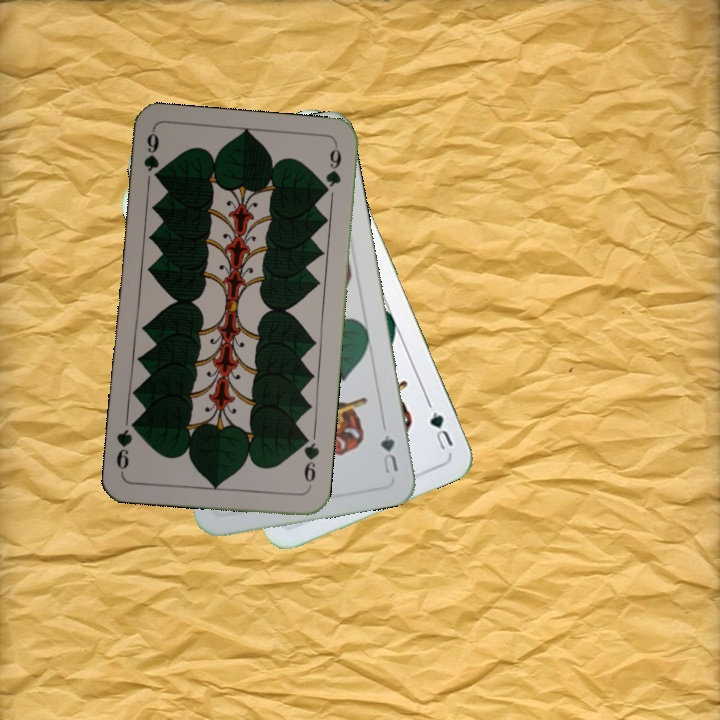G9: (299, 431, 322, 491), (139, 128, 162, 183)
GU: (425, 407, 456, 453), (376, 421, 401, 477)
